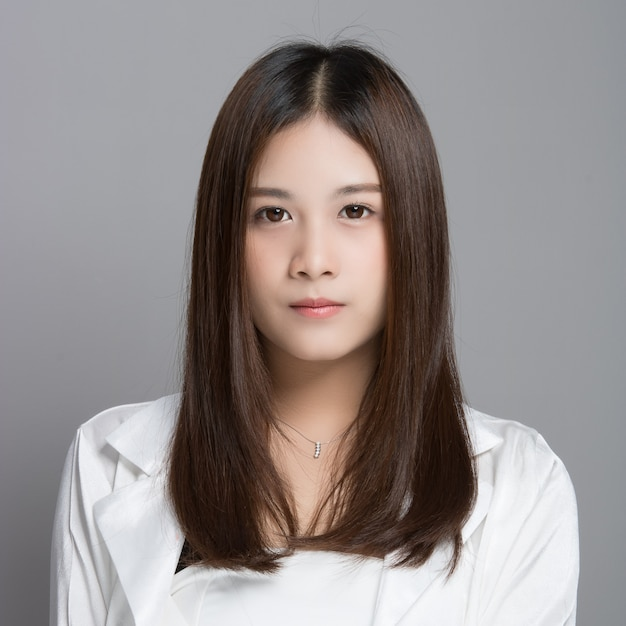teen: (181, 31, 461, 387)
